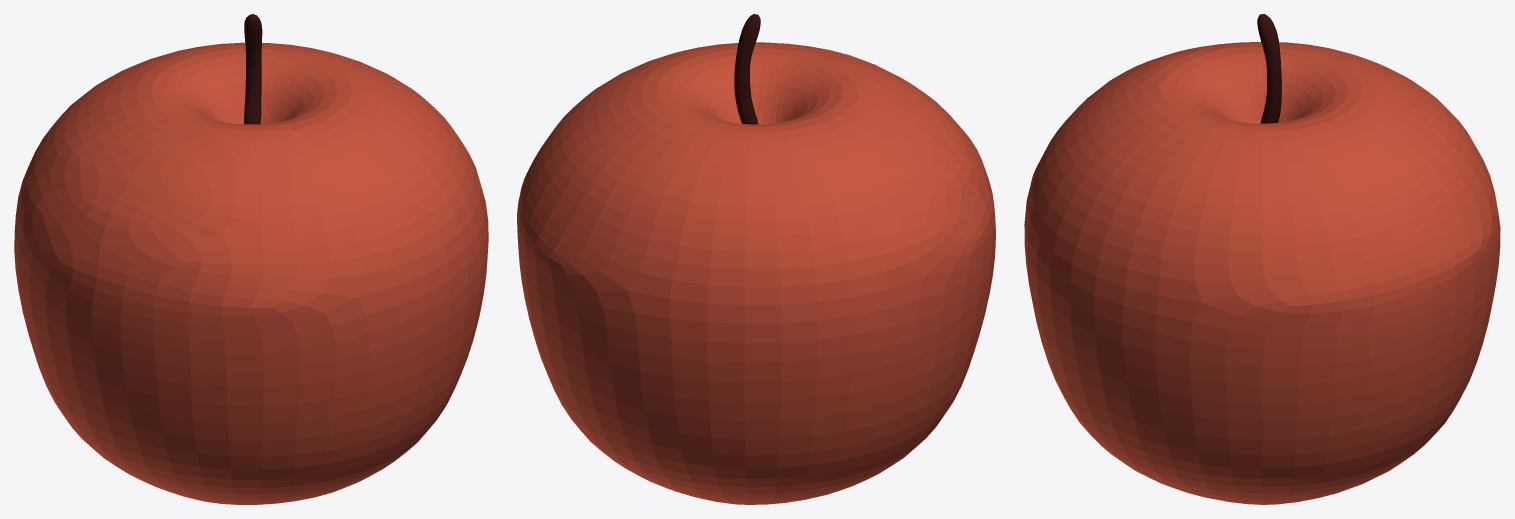
The model's file is apple.fbx.
The picture shows the model from 3 angles, left to right: view 1: azimuth 30°, elevation 25°; view 2: azimuth 150°, elevation 25°; view 3: azimuth 270°, elevation 25°; orthographic projection.
Parts seen in each view (by area): view 1: Apple; view 2: Apple; view 3: Apple.
Part boxes in pixels (x1=…): Apple: x1=14, y1=14, x2=488, y2=504; Apple: x1=517, y1=14, x2=995, y2=504; Apple: x1=1024, y1=14, x2=1500, y2=504.
Size of the model in its own units: 62.75 by 65.79 by 62.33.
